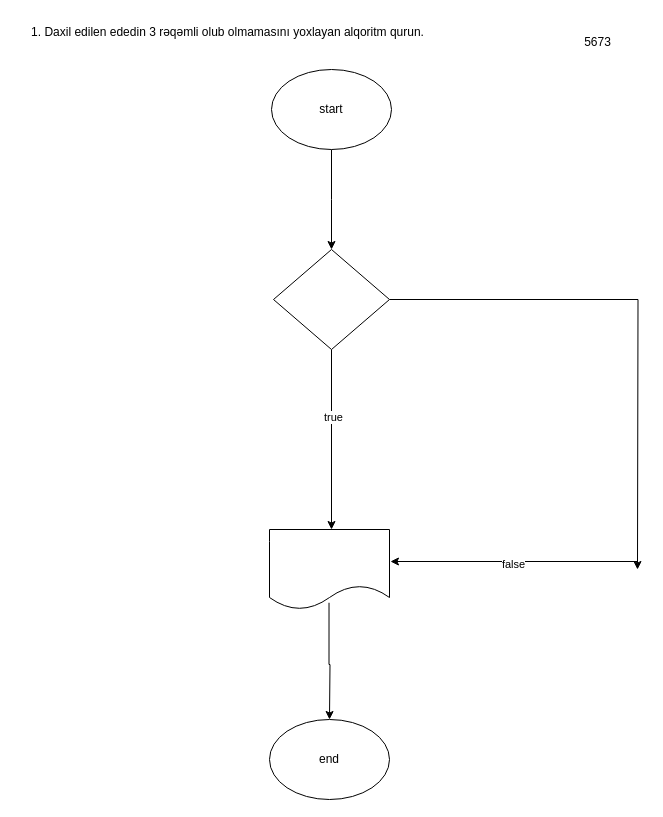
Image size: 663x817. Some labels were removed from this diagram. Here are the shapes that lost their labels. From the top down, the centre of each, then its label:
At point 331,299: "99<=n<=1000".
At point 329,569: "duzgun ededi daxil edin".
